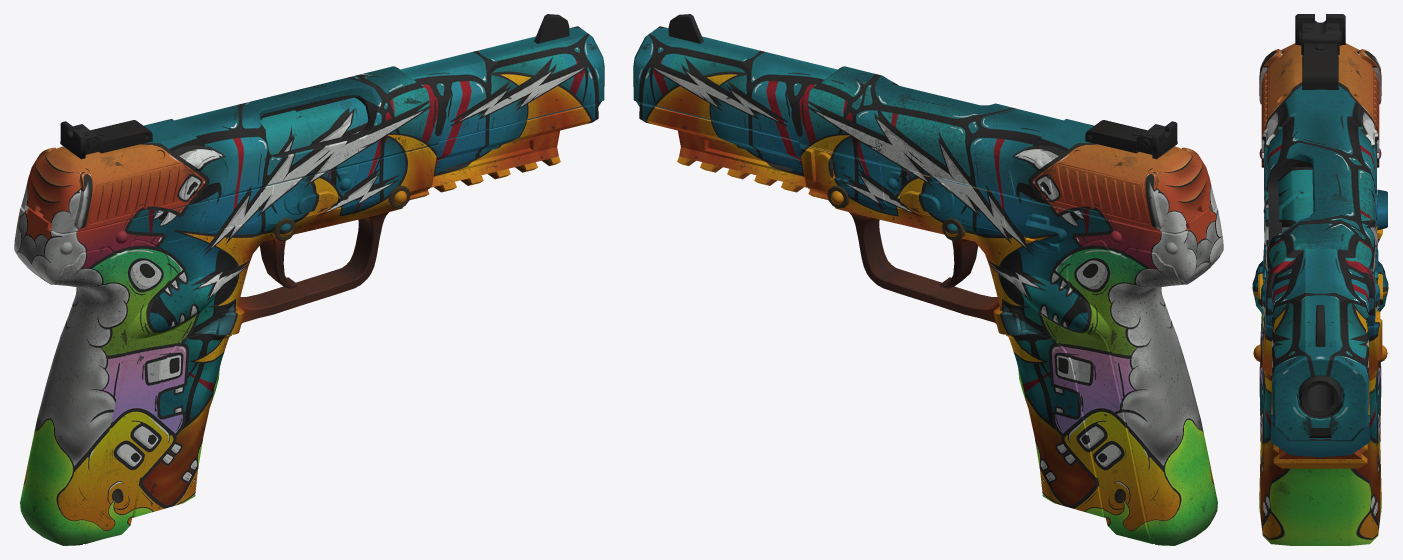
File: w_pistolmk2_angry.glb
The picture shows the model from 3 angles, left to right: view 1: azimuth 30°, elevation 25°; view 2: azimuth 150°, elevation 25°; view 3: azimuth 270°, elevation 25°; orthographic projection. The views are drawn at different scales.
Visible parts, largest first — view 1: Gun_Root; view 2: Gun_Root; view 3: Gun_Root.
Boxes of the visible parts, x1,y1,x2,y2 form: Gun_Root: (14, 14, 604, 545); Gun_Root: (633, 14, 1223, 545); Gun_Root: (1252, 14, 1388, 545).
Bounding box in the file's own units: 0.1929 × 0.1318 × 0.033.
1 material, 1 textured.
